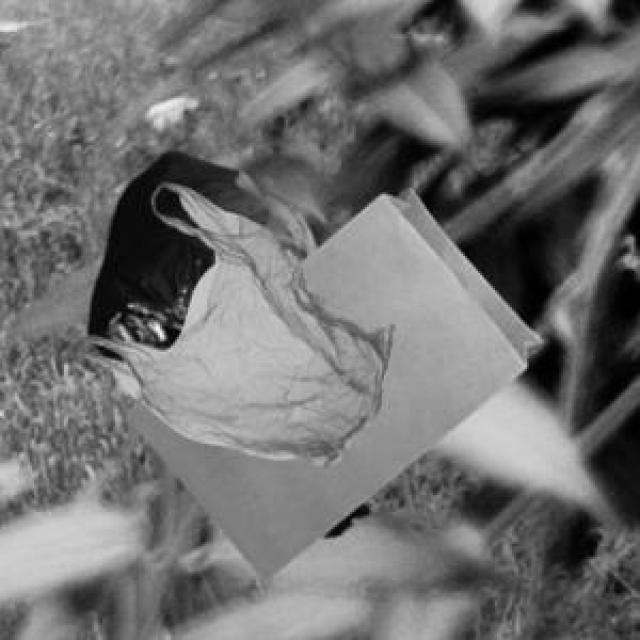miscellaneous trash: (85, 149, 383, 533)
paper: (124, 184, 538, 576)
